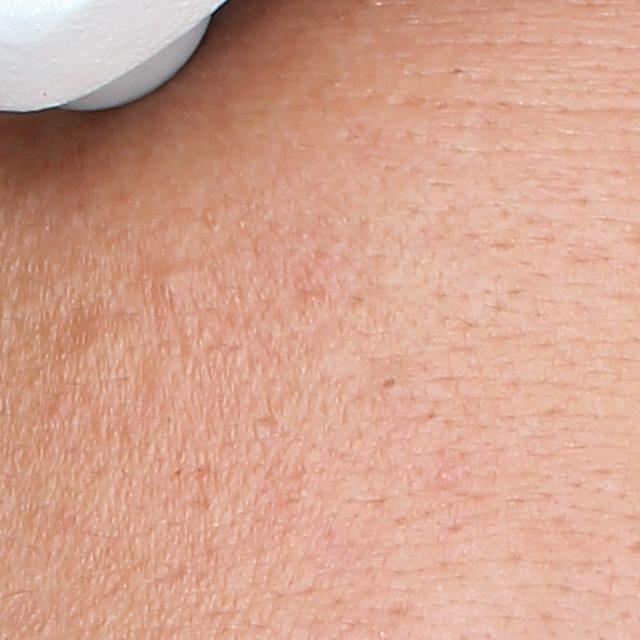comedo: (146, 261, 184, 300), (376, 373, 401, 390), (436, 468, 450, 485)
